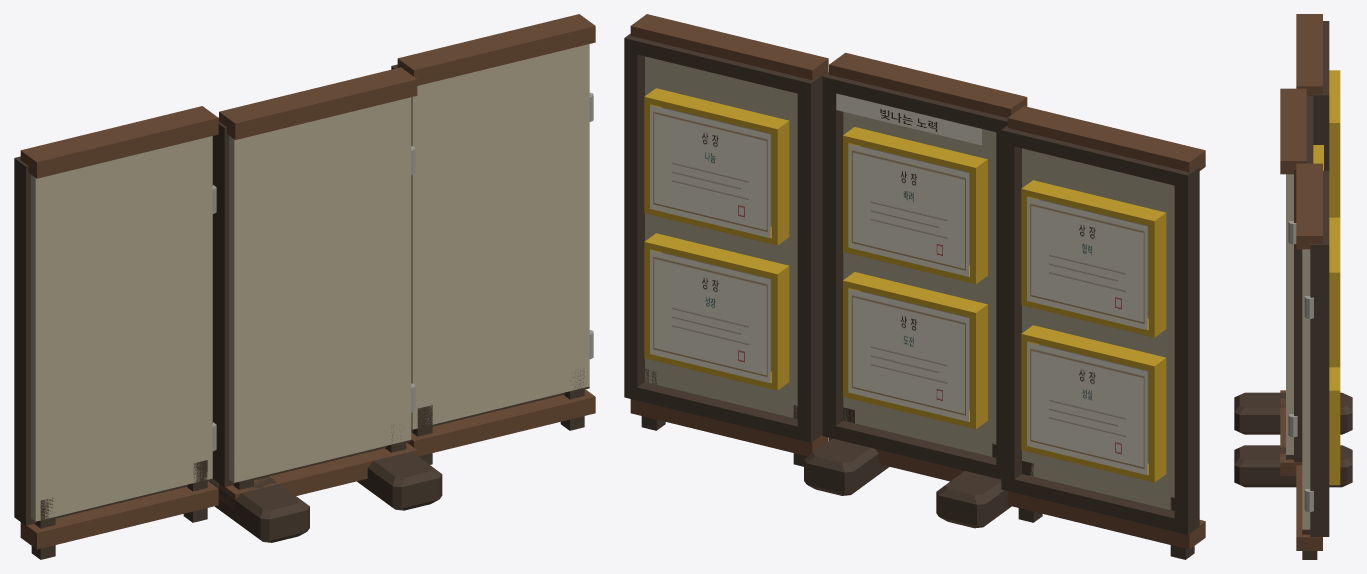
Rendered from A04_Certificate_Screen.fbx.
3 views of the same model, side by side, from view 1: azimuth 30°, elevation 25°; view 2: azimuth 150°, elevation 25°; view 3: azimuth 270°, elevation 25° (orthographic). The views are drawn at different scales.
Visible parts, largest first — view 1: Structure; view 2: Structure, Certificate_03, Certificate_04, Certificate_05, Certificate_02, Certificate_06, Certificate_01, Title; view 3: Structure.
Part boxes in pixels (left/top/right/bottom): Structure: left=14, top=14, right=595, bottom=559; Structure: left=624, top=14, right=1205, bottom=559; Certificate_03: left=848, top=289, right=969, bottom=421; Certificate_04: left=848, top=144, right=969, bottom=276; Certificate_05: left=650, top=250, right=770, bottom=383; Certificate_02: left=1027, top=197, right=1147, bottom=330; Certificate_06: left=650, top=105, right=770, bottom=238; Certificate_01: left=1027, top=342, right=1147, bottom=475; Title: left=836, top=93, right=981, bottom=145; Structure: left=1234, top=14, right=1352, bottom=559.
Bounding box in the file's own units: 3.6 × 2.45 × 0.8.
6 materials, 1 textured.
